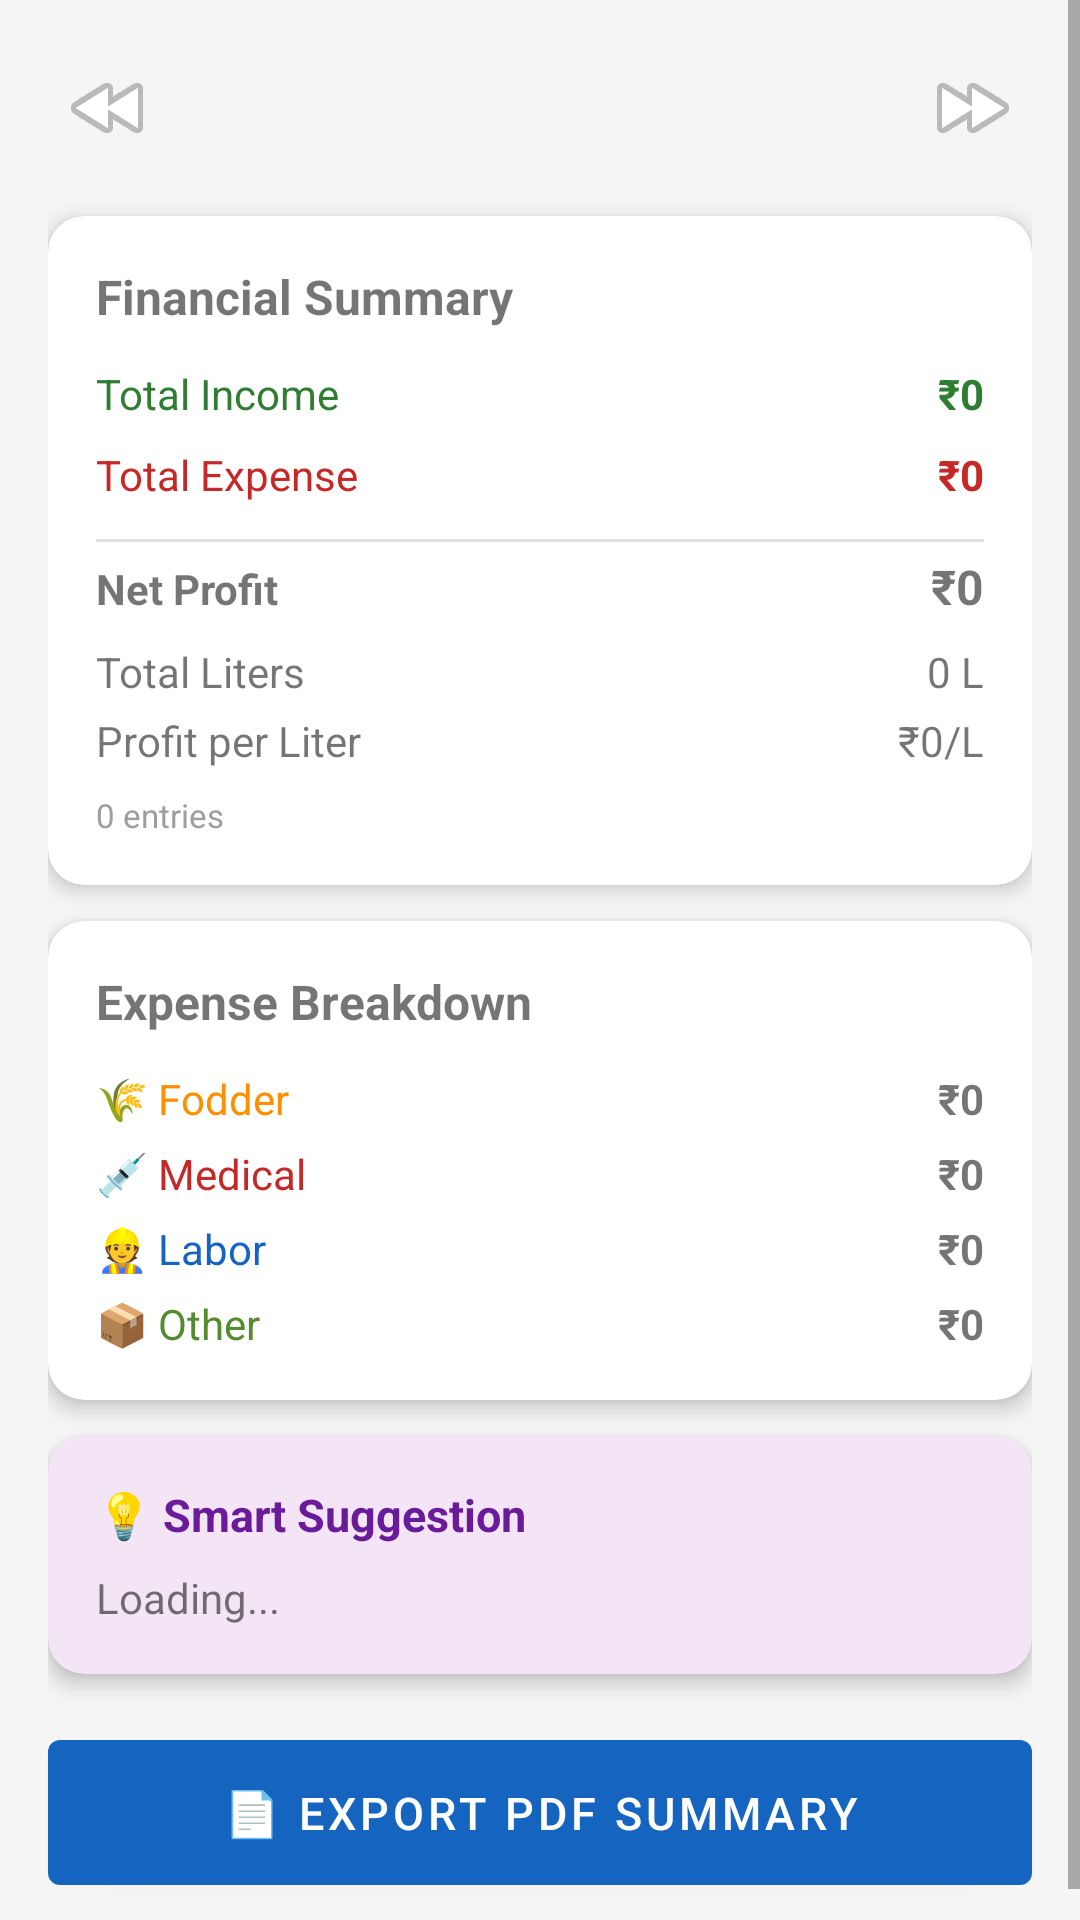

Where to tap for icons on this 1080 x 1920 app screen, as [x,y]:
rew: [107,108]
